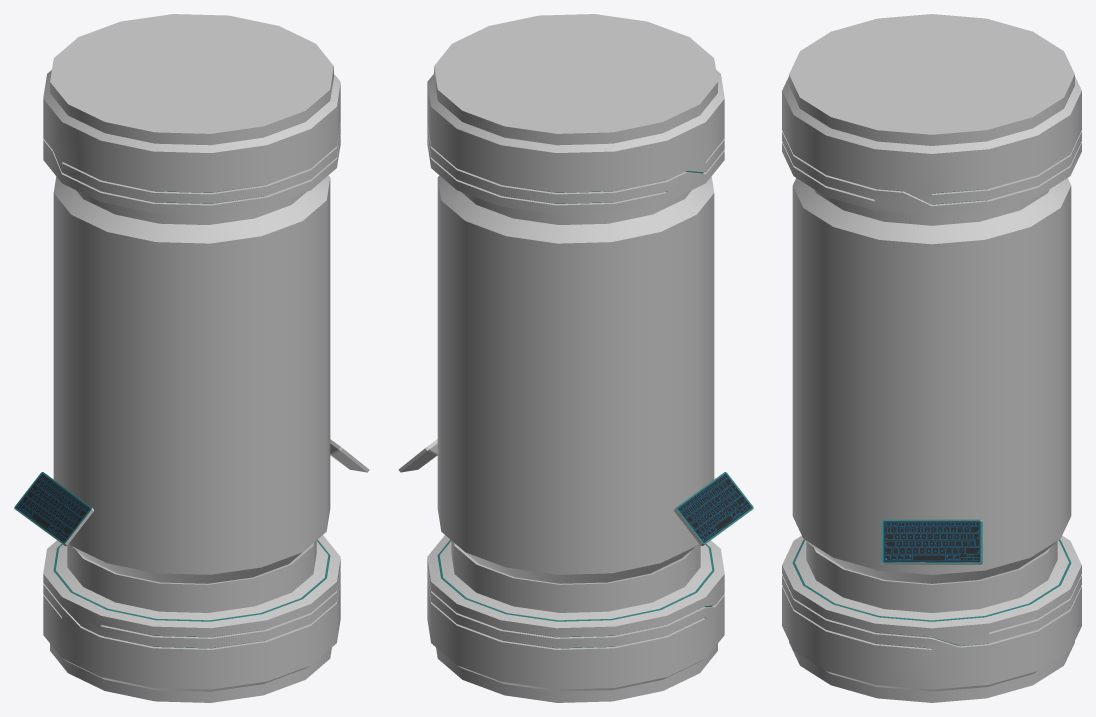
File: D_Display_005.fbx
3 views of the same model, side by side, from view 1: azimuth 30°, elevation 25°; view 2: azimuth 150°, elevation 25°; view 3: azimuth 270°, elevation 25° (orthographic).
Visible parts, largest first — view 1: D_Display_005_glass, D_Display_005; view 2: D_Display_005_glass, D_Display_005; view 3: D_Display_005_glass, D_Display_005.
Boxes of the visible parts, x1,y1,x2,y2 form: D_Display_005_glass: (53,175,330,583); D_Display_005: (14,14,369,702); D_Display_005_glass: (437,175,714,583); D_Display_005: (398,14,753,702); D_Display_005_glass: (792,178,1071,583); D_Display_005: (782,14,1081,702).
Bounding box in the file's own units: 1.99 × 3.52 × 1.68.
